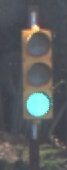Green: (16, 23, 57, 128)
